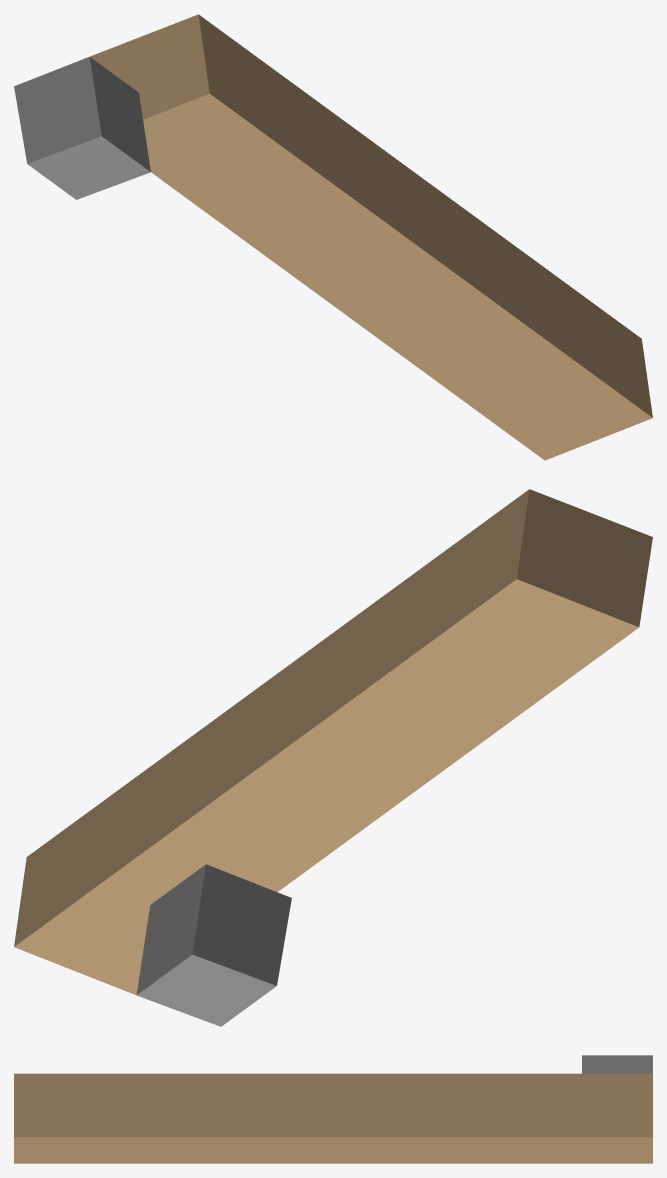
3 views of the same model, one above another, from view 1: azimuth 30°, elevation 25°; view 2: azimuth 150°, elevation 25°; view 3: azimuth 270°, elevation 25° (orthographic). The views are drawn at different scales.
Visible parts, largest first — view 1: 0_1_3_2_1_1_1_3_3_2_1_0; view 2: 0_1_3_2_1_1_1_3_3_2_1_0; view 3: 0_1_3_2_1_1_1_3_3_2_1_0.
Part boxes in pixels (<box>): 0_1_3_2_1_1_1_3_3_2_1_0: <box>14,14,652,460</box>; 0_1_3_2_1_1_1_3_3_2_1_0: <box>14,489,652,1026</box>; 0_1_3_2_1_1_1_3_3_2_1_0: <box>14,1055,652,1163</box>.
Bounding box in the file's own units: 6.89 × 3.62 × 27.
